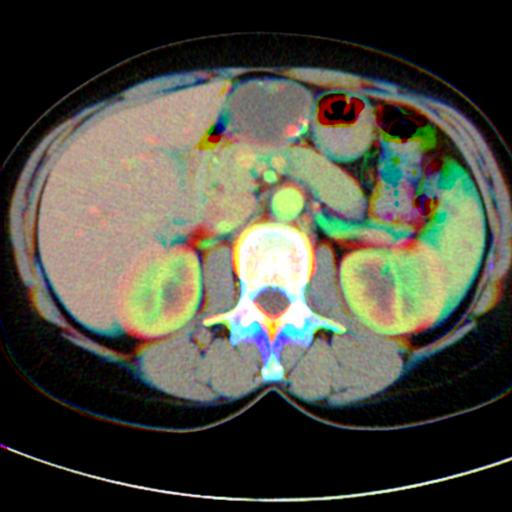Cyst: (229, 81, 310, 145)
